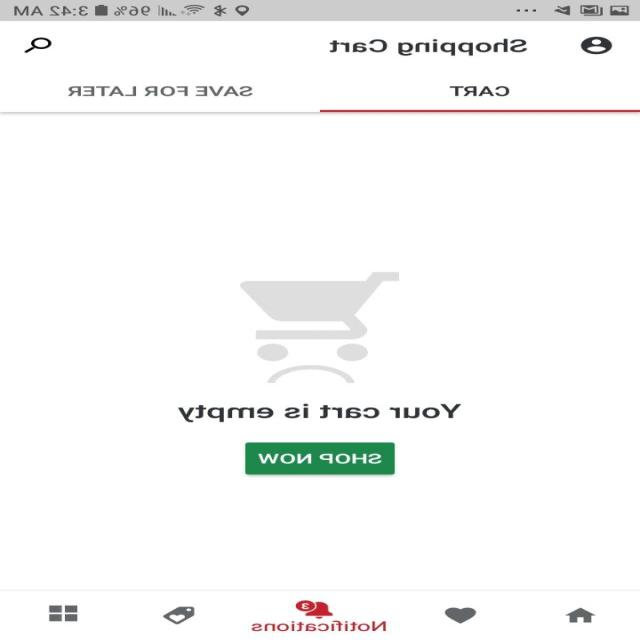Icon: (296, 600, 334, 618), (162, 605, 195, 624), (444, 606, 478, 623), (580, 36, 612, 54), (49, 604, 79, 622), (566, 606, 596, 622), (23, 37, 52, 53)
Image: (240, 272, 400, 384)
Text: (178, 403, 462, 423), (330, 38, 528, 56), (69, 85, 254, 96), (252, 620, 386, 631), (450, 85, 510, 96)
TextButton: (245, 442, 396, 475)
